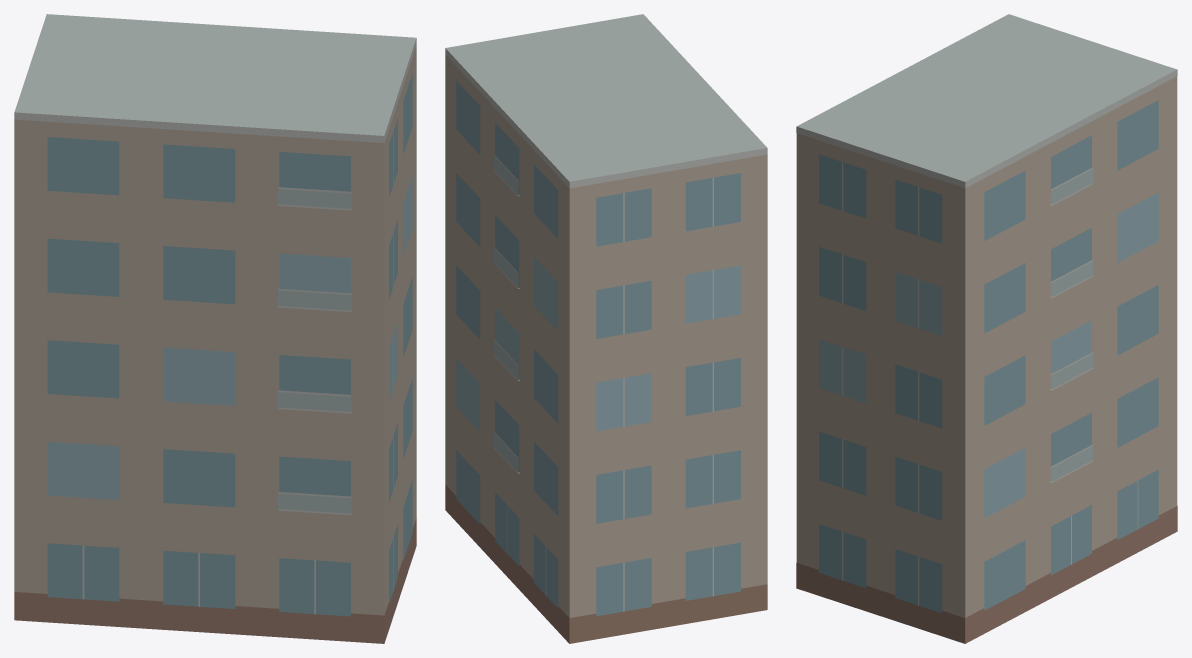
File: survey-upis-32927607.glb
The picture shows the model from 3 angles, left to right: view 1: azimuth 30°, elevation 25°; view 2: azimuth 150°, elevation 25°; view 3: azimuth 270°, elevation 25°; orthographic projection. The views are drawn at different scales.
Parts seen in each view (by area): view 1: survey-upis-32927607.tmp; view 2: survey-upis-32927607.tmp; view 3: survey-upis-32927607.tmp.
Boxes of the visible parts, left/top/right/bottom form: survey-upis-32927607.tmp: left=14, top=14, right=416, bottom=643; survey-upis-32927607.tmp: left=445, top=14, right=767, bottom=643; survey-upis-32927607.tmp: left=796, top=14, right=1177, bottom=643.
Size of the model in its own units: 13.41 by 17.2 by 12.86.
